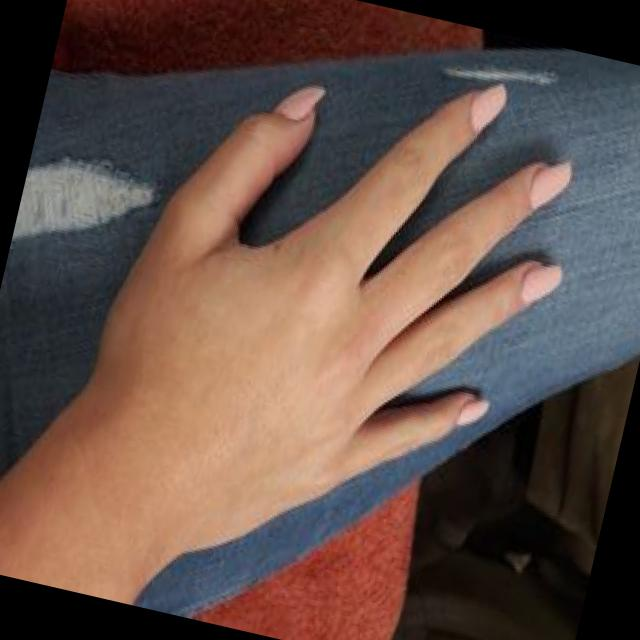Nail: (528, 162, 569, 209), (519, 265, 560, 307), (469, 85, 505, 132), (274, 86, 323, 118), (455, 399, 487, 425)
